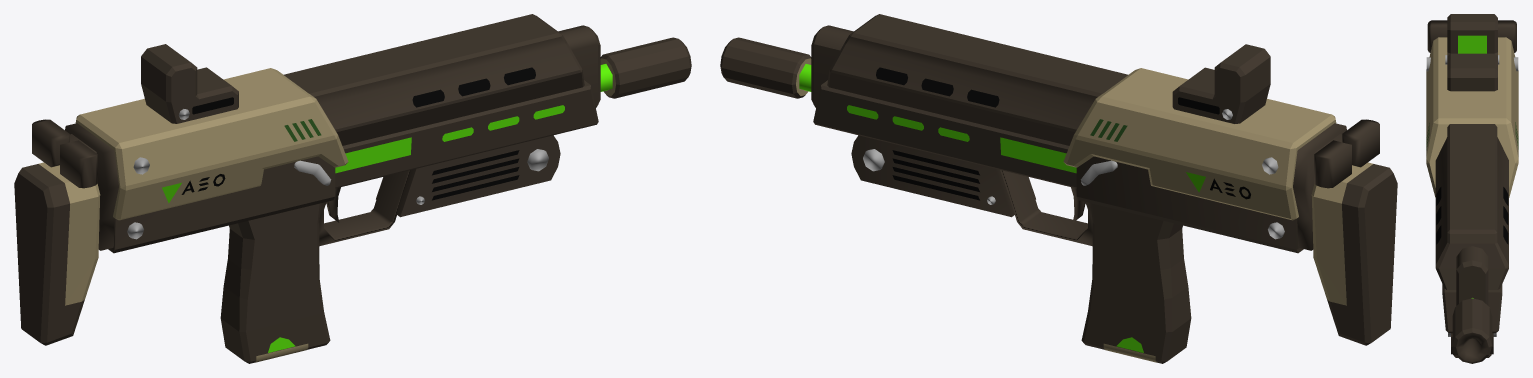
The model's file is weapon1.fbx.
3 views of the same model, side by side, from view 1: azimuth 30°, elevation 25°; view 2: azimuth 150°, elevation 25°; view 3: azimuth 270°, elevation 25° (orthographic). The views are drawn at different scales.
Parts seen in each view (by area): view 1: weapon1; view 2: weapon1; view 3: weapon1.
Part boxes in pixels (x1,y1,x2,y2): weapon1: (14, 14, 691, 363); weapon1: (720, 14, 1397, 363); weapon1: (1426, 14, 1518, 363).
Bounding box in the file's own units: 0.5543 × 0.2591 × 0.0783.
